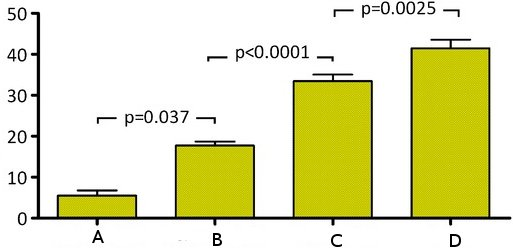OK_NoIssue: (4, 0, 510, 249)
